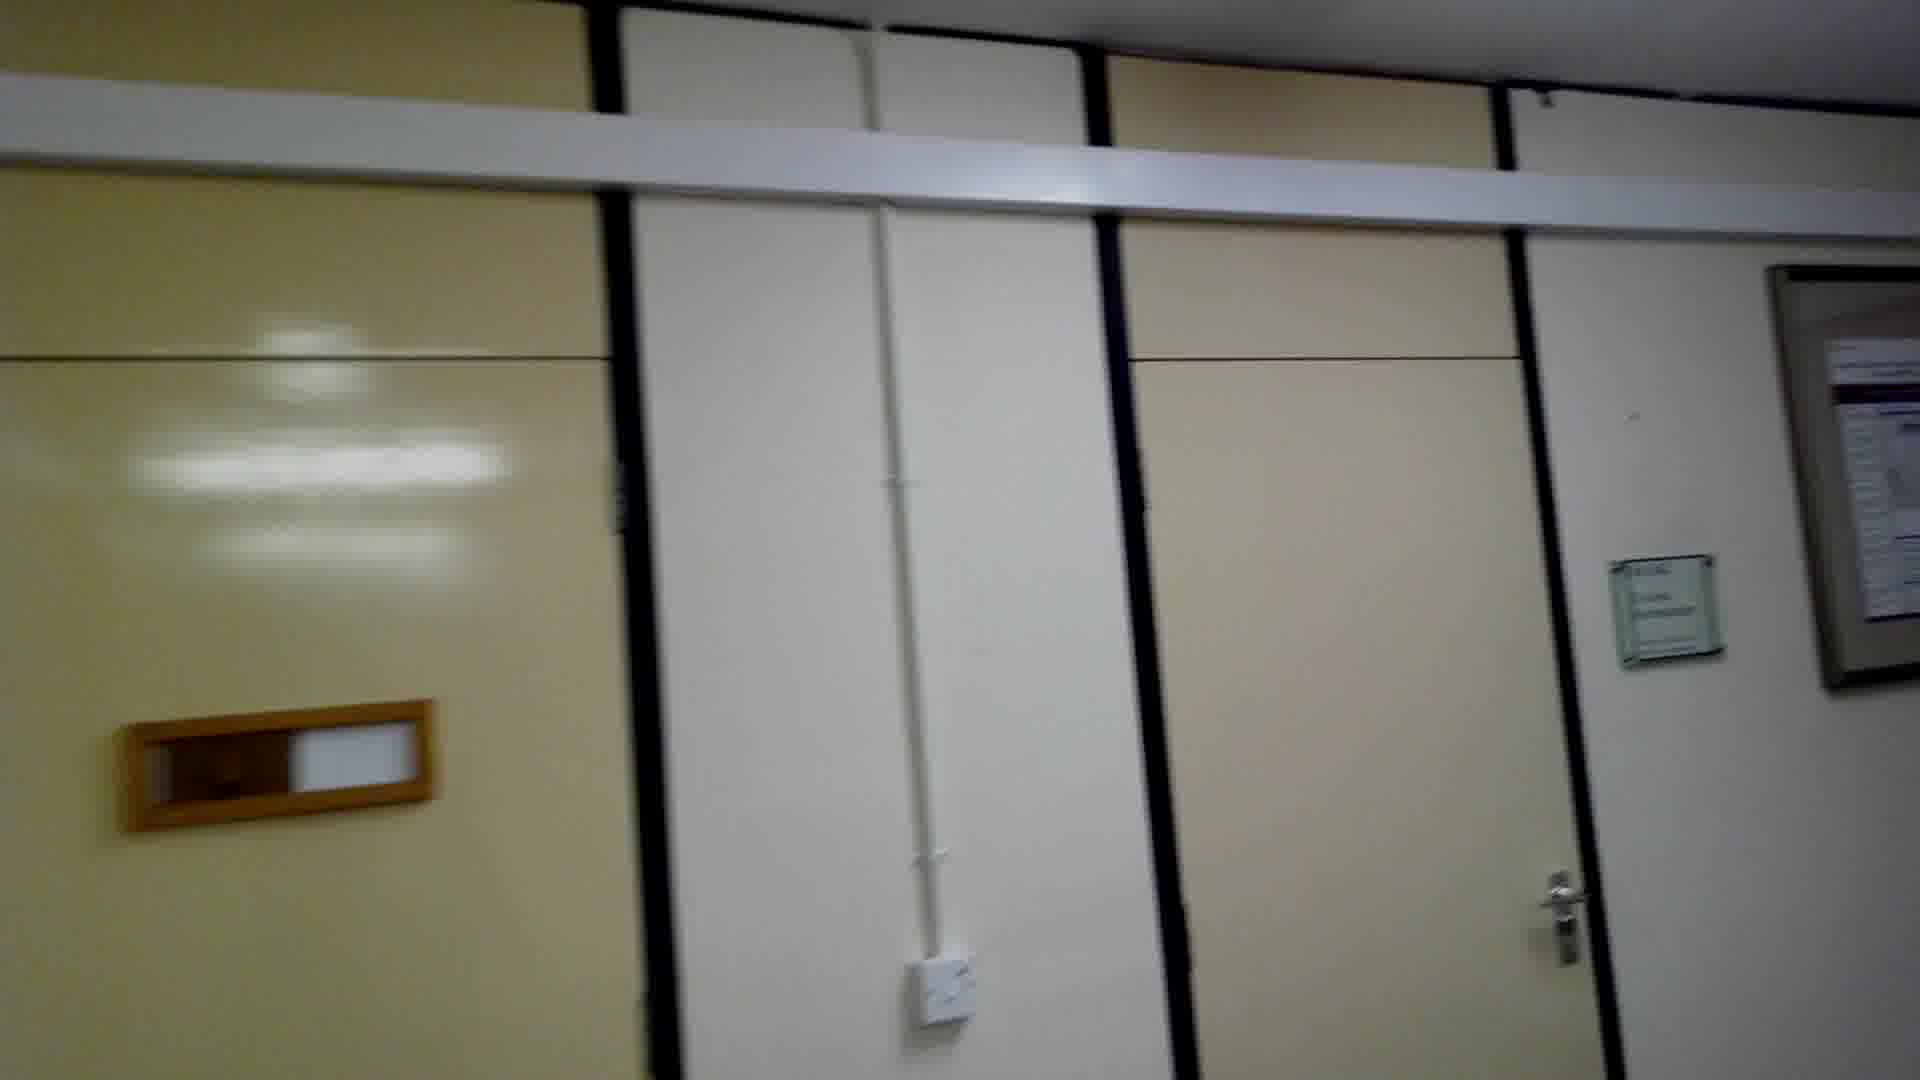Door: (1083, 338, 1636, 1080)
